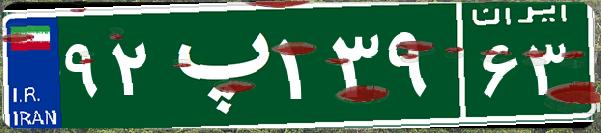1: (273, 28, 330, 110)
2: (110, 28, 158, 105)
3: (330, 28, 385, 110), (525, 38, 570, 115)
6: (475, 38, 525, 113)
9: (385, 28, 445, 110), (57, 26, 110, 107)
پ: (158, 15, 273, 115)
